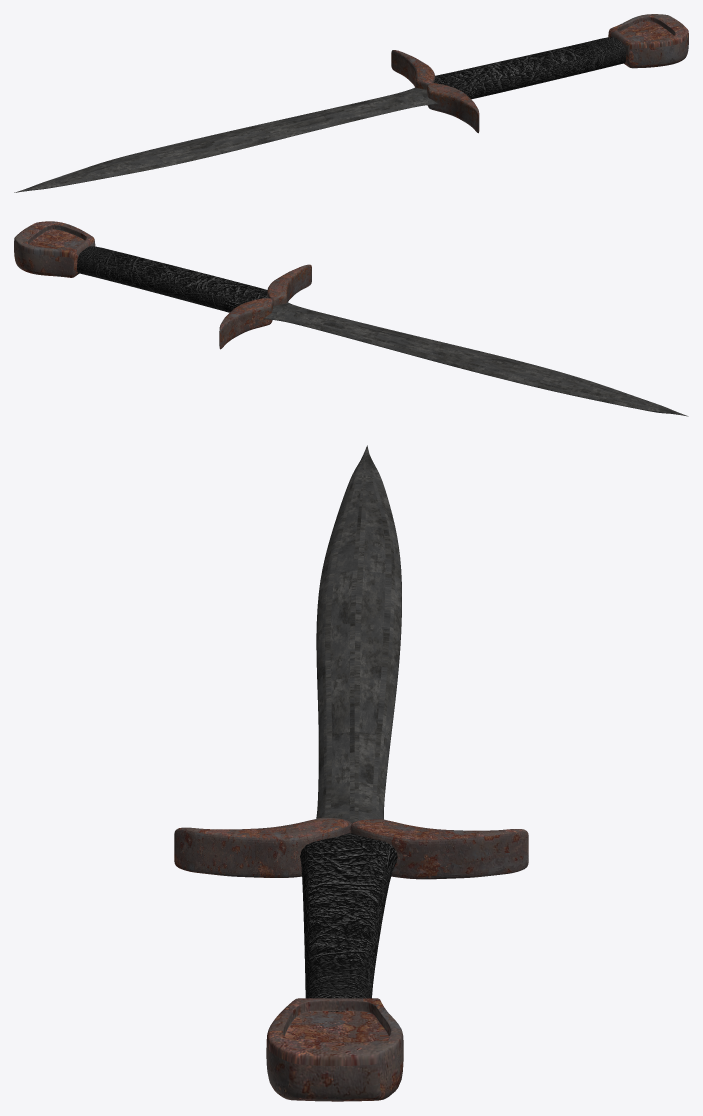
File: Sword.glb
3 views of the same model, one above another, from view 1: azimuth 30°, elevation 25°; view 2: azimuth 150°, elevation 25°; view 3: azimuth 270°, elevation 25° (orthographic). The views are drawn at different scales.
Visible parts, largest first — view 1: Sword; view 2: Sword; view 3: Sword.
Part boxes in pixels (x1=…): Sword: x1=14, y1=14, x2=688, y2=192; Sword: x1=14, y1=221, x2=688, y2=416; Sword: x1=174, y1=445, x2=528, y2=1101.
Bounding box in the file's own units: 1.38 × 0.0531 × 0.3222.
Materials: 3 (3 with a texture image).
